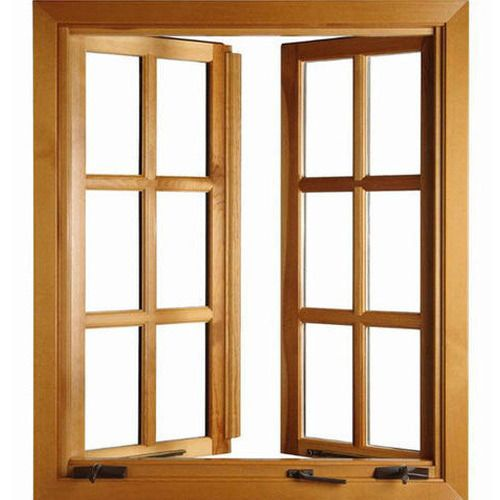Window: (32, 1, 468, 500)
